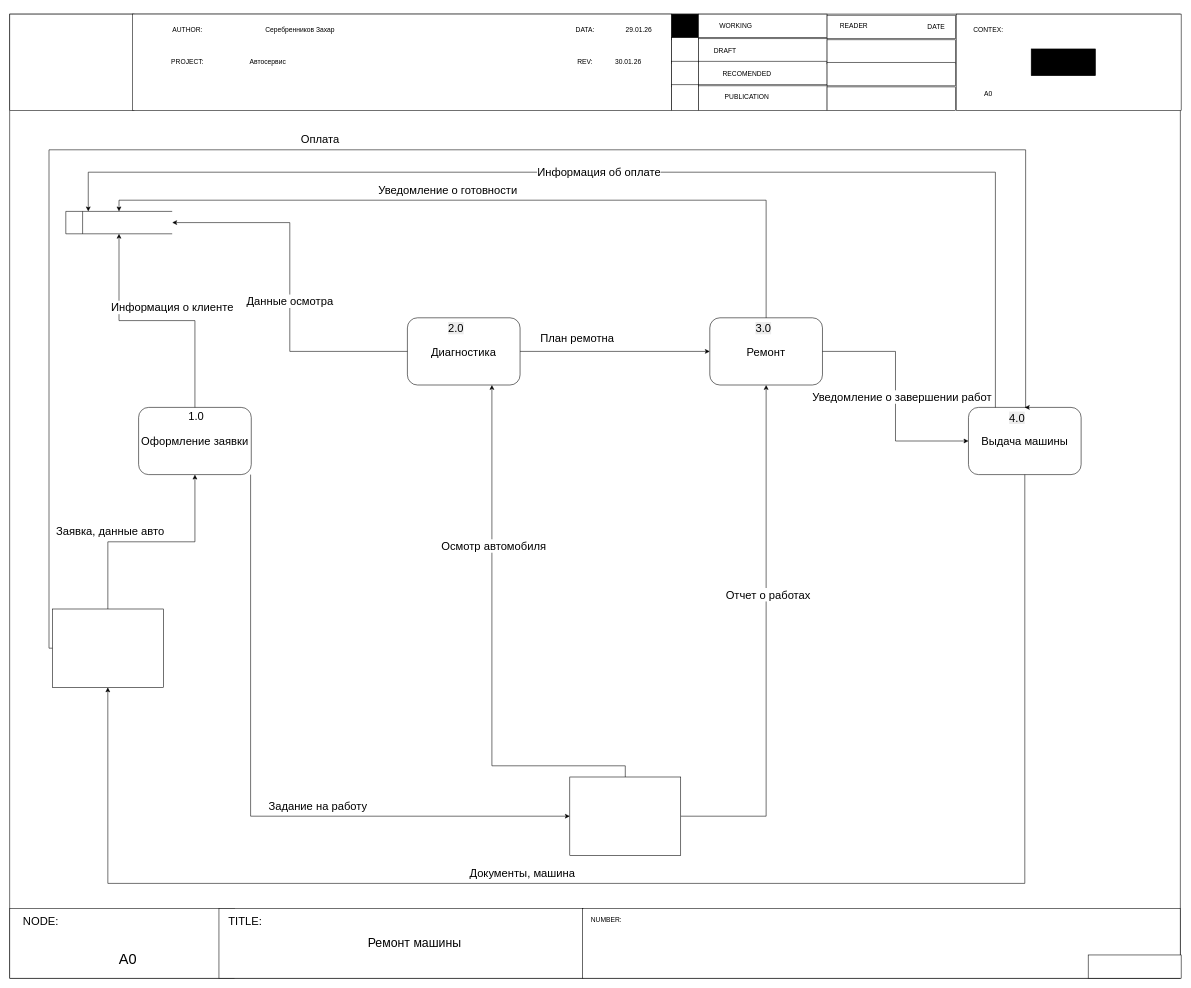
Image size: 1191x988. Some labels were removed from this diagram. Each missing label, with the centre of its shape:
"D1 БД заказов" belongs at pixel 118 222.
"USED AT:" belongs at pixel 71 62.
"Клиент" belongs at pixel 107 647.
"Персонал сервиса" belongs at pixel 625 815.
